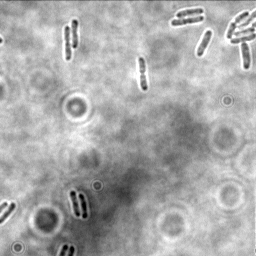Dividing: (170, 14, 206, 28), (137, 56, 149, 92), (63, 24, 72, 62), (70, 18, 79, 49)
Microcolony: (224, 7, 255, 70)
Rod: (195, 29, 214, 57), (0, 202, 18, 226), (68, 189, 82, 217), (78, 192, 90, 220), (176, 7, 205, 18)
